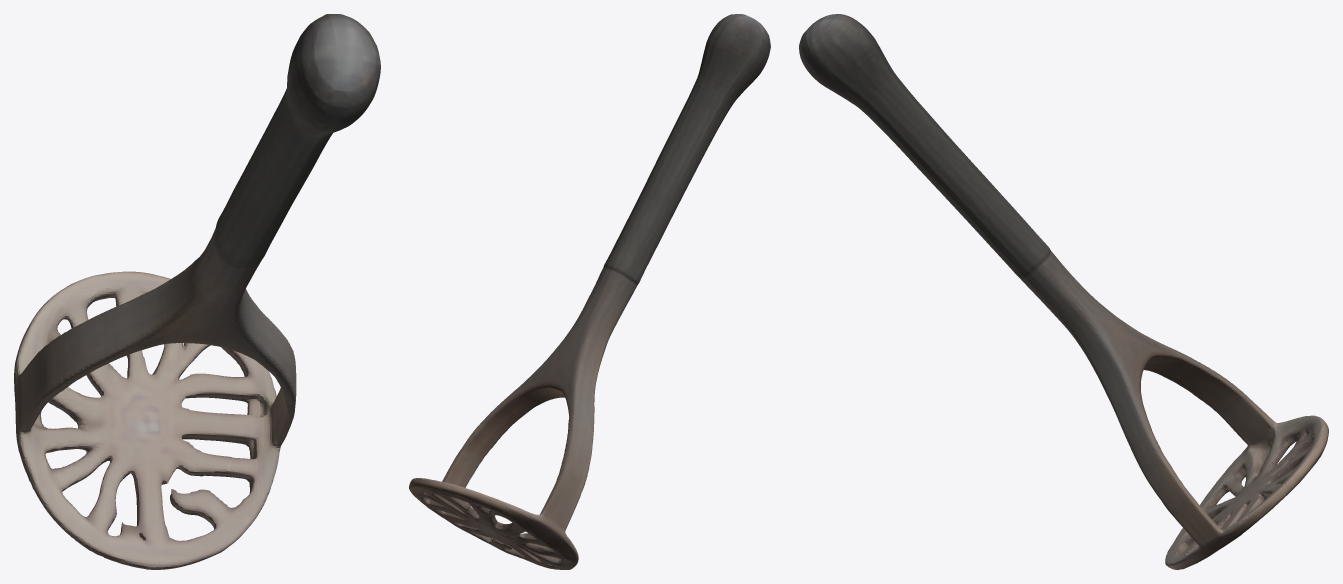
The model's file is frame_0032_source_000032_object.glb.
3 views of the same model, side by side, from view 1: azimuth 30°, elevation 25°; view 2: azimuth 150°, elevation 25°; view 3: azimuth 270°, elevation 25° (orthographic). The views are drawn at different scales.
Visible parts, largest first — view 1: world; view 2: world; view 3: world.
Boxes of the visible parts, left/top/right/bottom form: world: left=14, top=14, right=380, bottom=569; world: left=409, top=14, right=770, bottom=569; world: left=799, top=14, right=1328, bottom=569.
Size of the model in its own units: 0.0819 by 0.2171 by 0.203.
